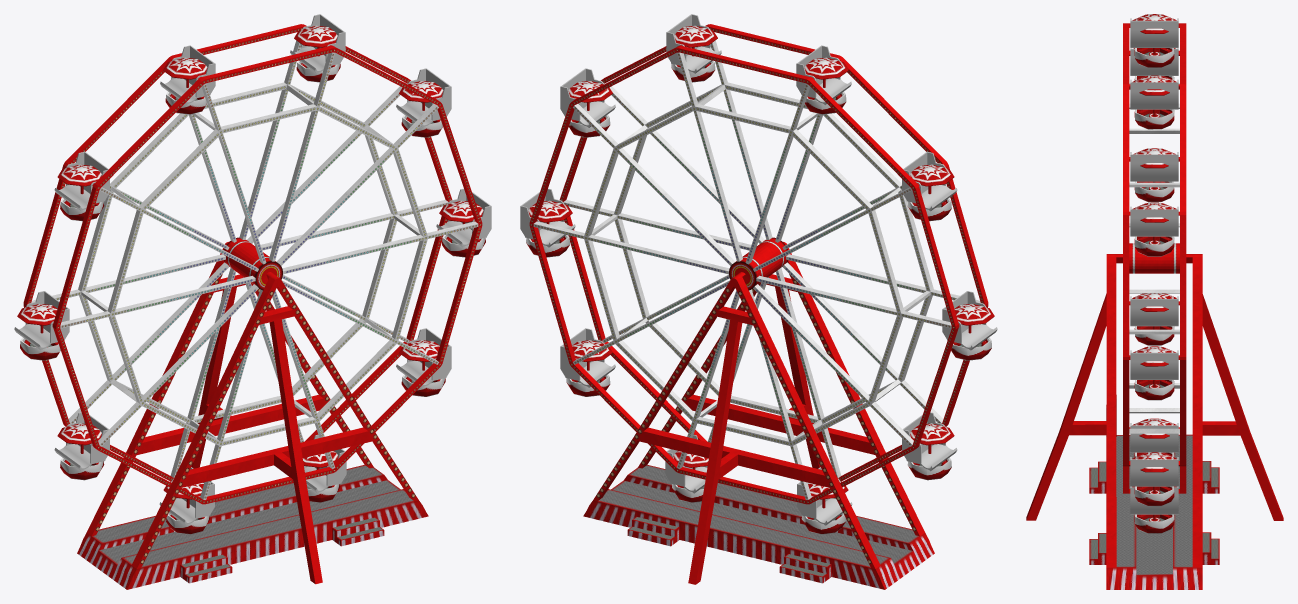
The model's file is ferris_wheel.fbx.
3 views of the same model, side by side, from view 1: azimuth 30°, elevation 25°; view 2: azimuth 150°, elevation 25°; view 3: azimuth 270°, elevation 25° (orthographic). The views are drawn at different scales.
Visible parts, largest first — view 1: wheel, base, ferris_wheel_cart9_style2, ferris_wheel_cart10_style2, ferris_wheel_cart8_style2, ferris_wheel_cart1_style2, ferris_wheel_cart9_style1, ferris_wheel_cart2_style2, ferris_wheel_cart8_style1, ferris_wheel_cart3_style1, ferris_wheel_cart10_style1, ferris_wheel_cart5_style1 (+10 smaller); view 2: wheel, base, ferris_wheel_cart9_style2, ferris_wheel_cart10_style2, ferris_wheel_cart8_style2, ferris_wheel_cart1_style2, ferris_wheel_cart9_style1, ferris_wheel_cart2_style2, ferris_wheel_cart8_style1, ferris_wheel_cart3_style1, ferris_wheel_cart10_style1, ferris_wheel_cart5_style1 (+10 smaller); view 3: base, wheel, ferris_wheel_cart3_style1, ferris_wheel_cart8_style1, ferris_wheel_cart4_style1, ferris_wheel_cart1_style1, ferris_wheel_cart5_style1, ferris_wheel_cart9_style1, ferris_wheel_cart2_style1, ferris_wheel_cart2_style2, ferris_wheel_cart5_style2, ferris_wheel_cart3_style2 (+9 smaller).
Part boxes in pixels (box(x1,y1,x2,y2)): wheel: box(23, 24, 482, 504); base: box(77, 242, 428, 589); ferris_wheel_cart9_style2: box(17, 304, 60, 360); ferris_wheel_cart10_style2: box(57, 164, 104, 221); ferris_wheel_cart8_style2: box(57, 423, 104, 480); ferris_wheel_cart1_style2: box(163, 57, 207, 114); ferris_wheel_cart9_style1: box(14, 291, 69, 350); ferris_wheel_cart2_style2: box(294, 25, 340, 82); ferris_wheel_cart8_style1: box(54, 412, 109, 471); ferris_wheel_cart3_style1: box(396, 68, 451, 127); ferris_wheel_cart10_style1: box(54, 151, 109, 211); ferris_wheel_cart5_style1: box(396, 328, 451, 387); wheel: box(529, 24, 988, 504); base: box(583, 242, 934, 589); ferris_wheel_cart9_style2: box(951, 304, 994, 360); ferris_wheel_cart10_style2: box(907, 164, 954, 221); ferris_wheel_cart8_style2: box(907, 423, 954, 480); ferris_wheel_cart1_style2: box(804, 57, 848, 114); ferris_wheel_cart9_style1: box(942, 291, 997, 350); ferris_wheel_cart2_style2: box(671, 25, 717, 82); ferris_wheel_cart8_style1: box(902, 412, 957, 471); ferris_wheel_cart3_style1: box(560, 68, 615, 127); ferris_wheel_cart10_style1: box(902, 151, 957, 211); ferris_wheel_cart5_style1: box(560, 328, 615, 387); base: box(1026, 254, 1283, 589); wheel: box(1123, 23, 1186, 493); ferris_wheel_cart3_style1: box(1130, 206, 1178, 236); ferris_wheel_cart8_style1: box(1130, 296, 1178, 326); ferris_wheel_cart4_style1: box(1130, 350, 1178, 379); ferris_wheel_cart1_style1: box(1130, 18, 1178, 47); ferris_wheel_cart5_style1: box(1130, 457, 1178, 486); ferris_wheel_cart9_style1: box(1130, 152, 1178, 181); ferris_wheel_cart2_style1: box(1130, 79, 1178, 109); ferris_wheel_cart2_style2: box(1132, 75, 1176, 129); ferris_wheel_cart5_style2: box(1132, 452, 1176, 506); ferris_wheel_cart3_style2: box(1132, 202, 1176, 256).
Size of the model in its own units: 47.08 by 47.98 by 23.56.
